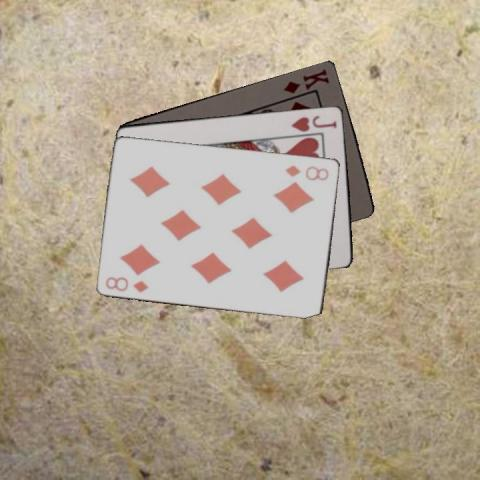8d: (103, 273, 150, 294), (282, 162, 330, 182)
Jh: (288, 112, 338, 133)
Kd: (280, 65, 331, 95)
